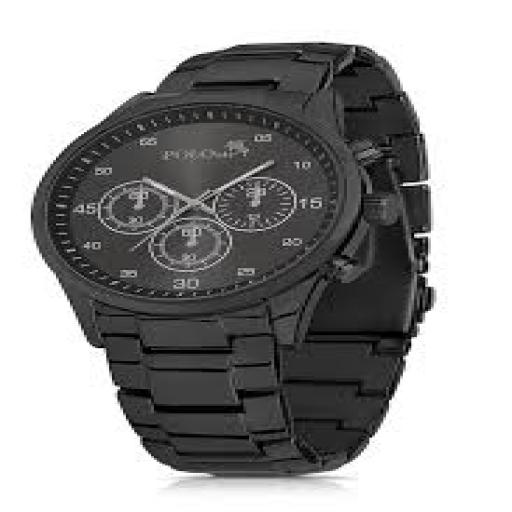KolSaati: (0, 6, 483, 492)
